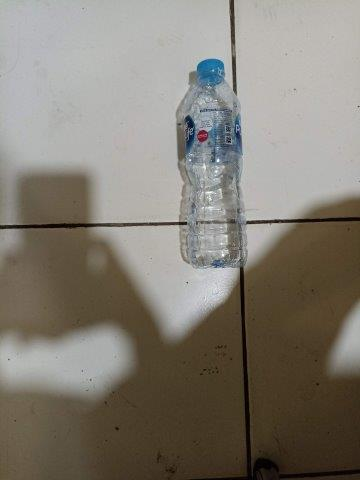botolplastik: (181, 58, 246, 268)
